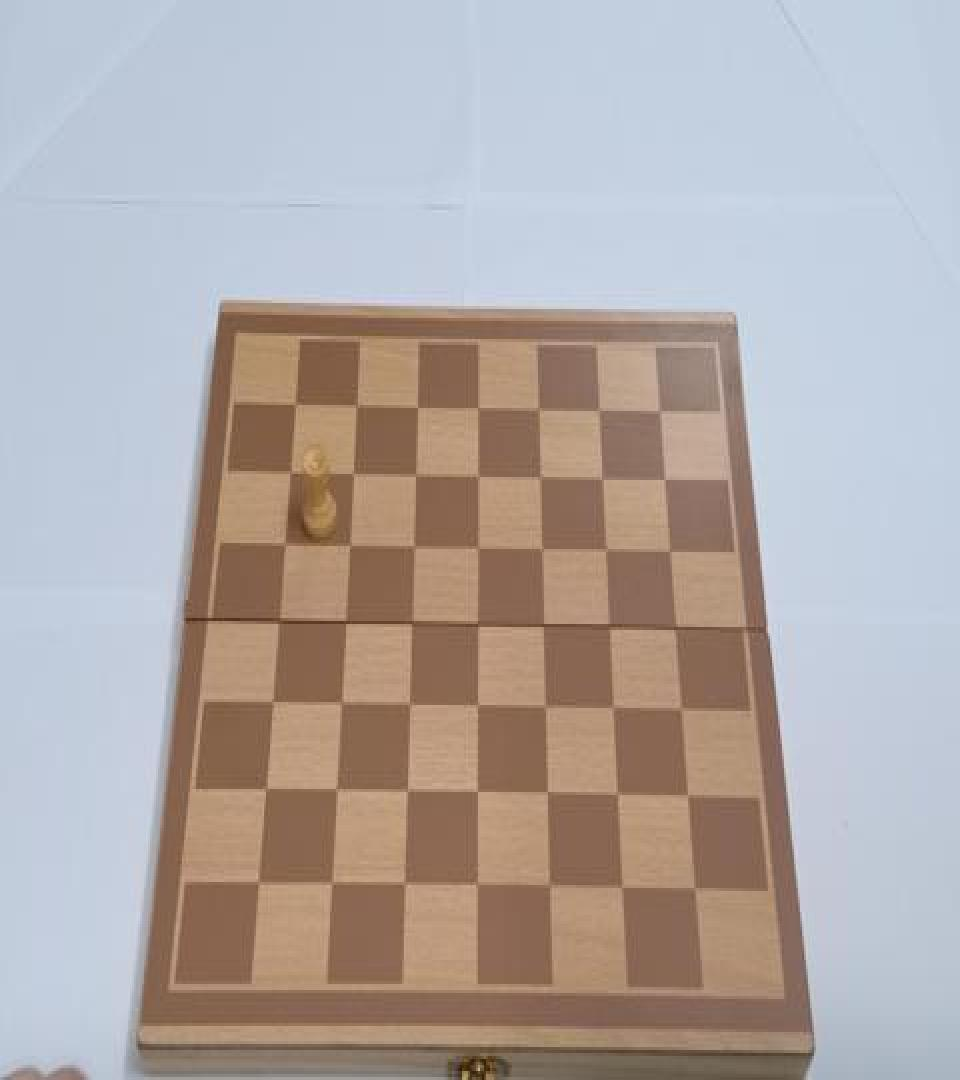xcorner: (287, 394, 305, 422), (348, 394, 366, 422), (468, 694, 486, 722), (531, 466, 549, 494), (536, 694, 554, 722), (593, 466, 611, 494), (282, 462, 300, 489), (276, 534, 294, 561), (270, 610, 288, 637), (264, 690, 282, 717), (250, 867, 268, 894), (336, 610, 354, 637), (327, 777, 345, 804), (322, 868, 340, 895), (408, 396, 426, 423), (402, 612, 420, 639), (400, 693, 418, 720), (397, 778, 415, 805), (395, 870, 413, 897), (469, 397, 487, 424), (468, 465, 486, 492), (468, 537, 486, 564), (467, 780, 485, 807), (529, 397, 547, 424), (532, 538, 550, 565), (539, 873, 557, 900), (590, 399, 608, 426), (597, 538, 615, 565), (600, 615, 618, 642), (604, 696, 622, 723), (608, 783, 626, 810), (612, 874, 630, 901), (651, 399, 669, 426), (656, 468, 674, 495), (661, 540, 679, 567), (666, 617, 684, 644), (678, 785, 696, 812), (685, 876, 703, 903), (257, 776, 275, 802), (344, 464, 362, 490), (340, 536, 358, 562), (332, 692, 350, 718), (406, 464, 424, 490), (404, 536, 422, 562), (468, 614, 486, 640), (467, 872, 485, 898), (534, 614, 552, 640), (537, 782, 555, 808), (672, 698, 690, 724)
